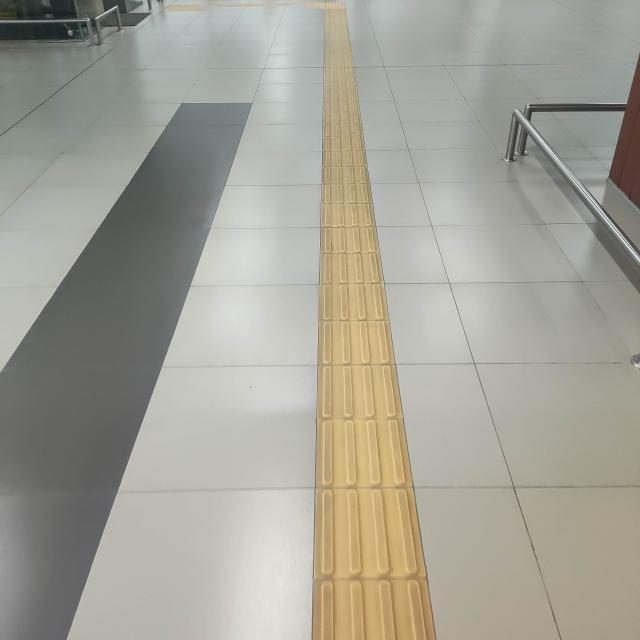lurus: (296, 31, 419, 640)
